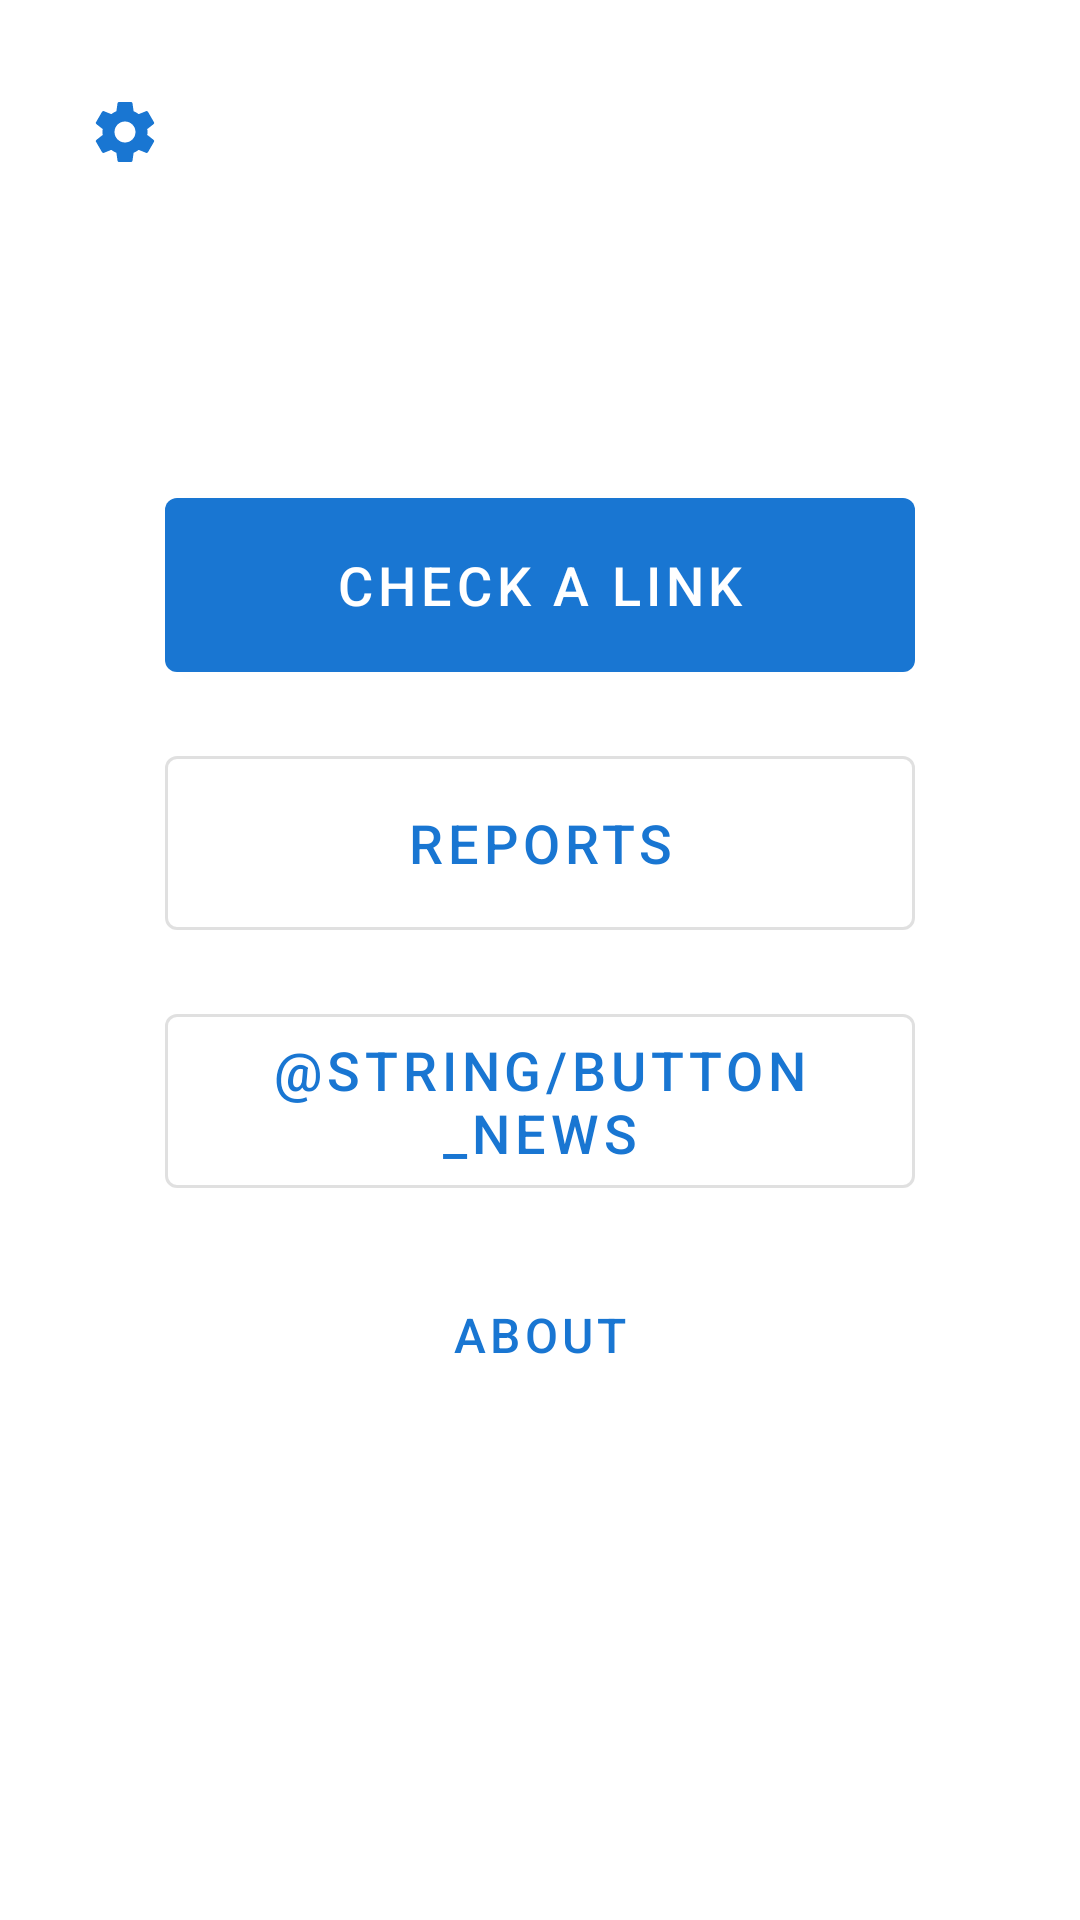

Named icons in this screenshot (1080px x 1920px) and their bounding boxes, Rect(x1, y1, x2, y2):
Settings: Rect(95, 102, 154, 162)
